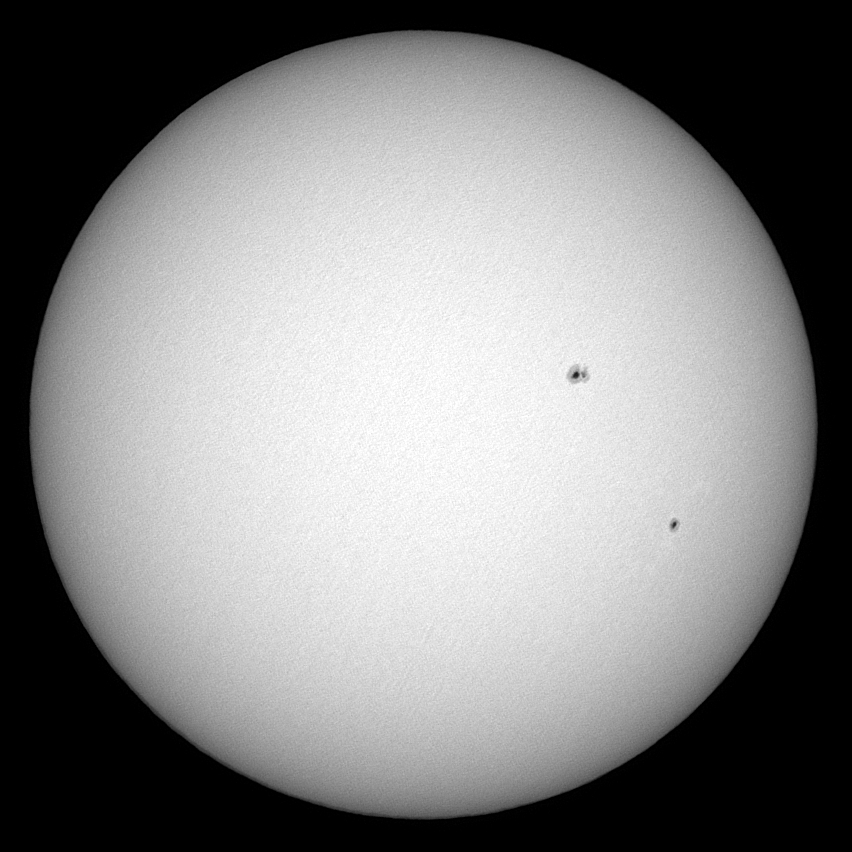sunspot: (565, 360, 592, 388), (667, 514, 682, 534)
